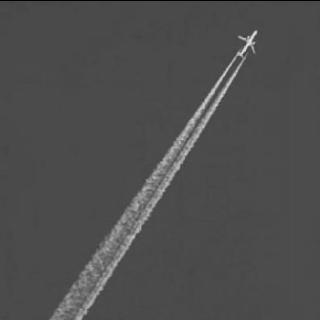Contrails: (38, 51, 247, 320)
